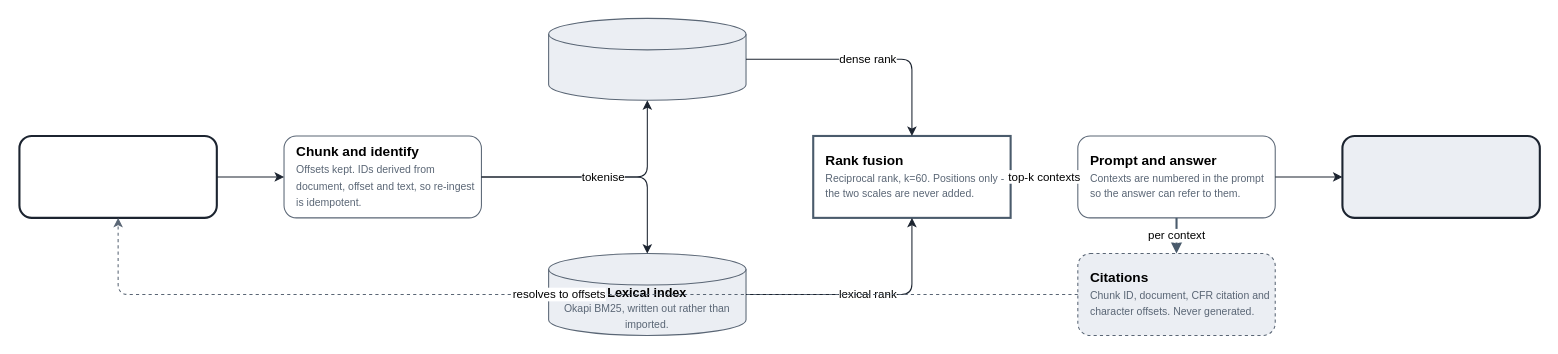
The diagram is 1558 pixels wide and 354 high, and some of its shapes have lost their labels. Here are the shapes that lost their labels. From the top down, the box of each, then its label:
(548, 17, 746, 100): Dense index Cosine similarity over embedded chunks.
(18, 134, 217, 218): NFIP corpus Licensed federal flood-insurance text, committed to the repository.
(1341, 134, 1540, 218): Query service Answer and citations returned together, never separately.
